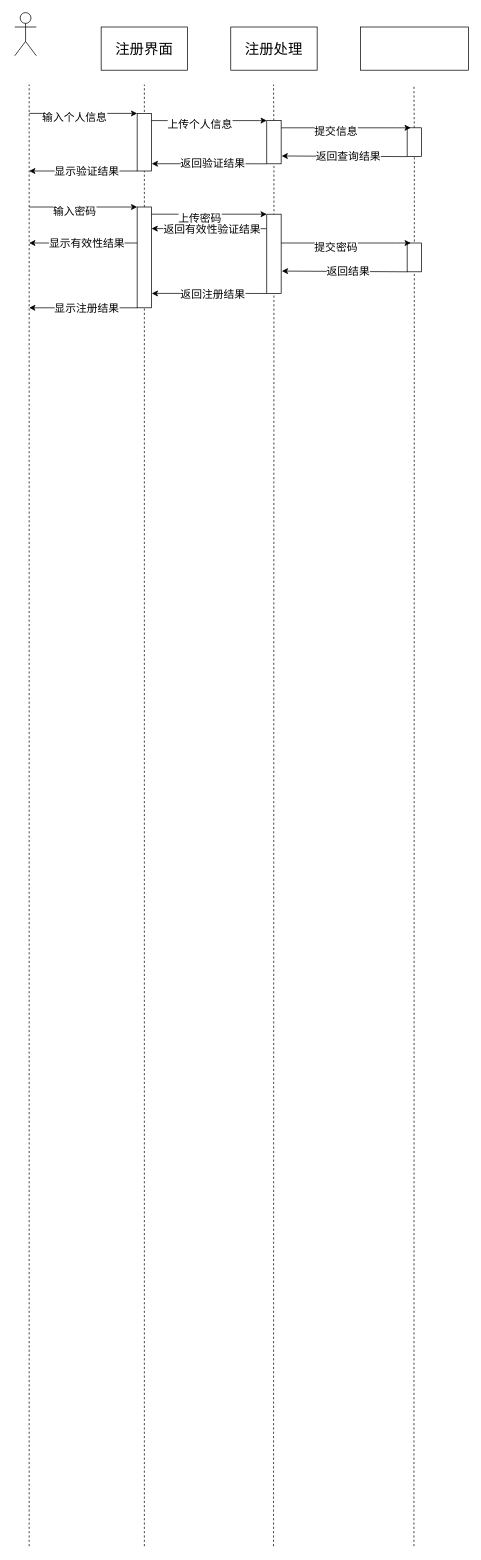
Image size: 481x1560. Some labels were removed from this diagram. The centre of each missing label's shape, as x and y in pixels:
"学生" goes at [25,34].
"学生名册数据库" goes at [414,48].
